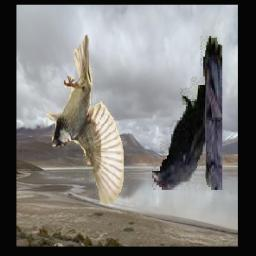Crow: (151, 37, 221, 191)
Sparrow: (44, 35, 123, 208)
